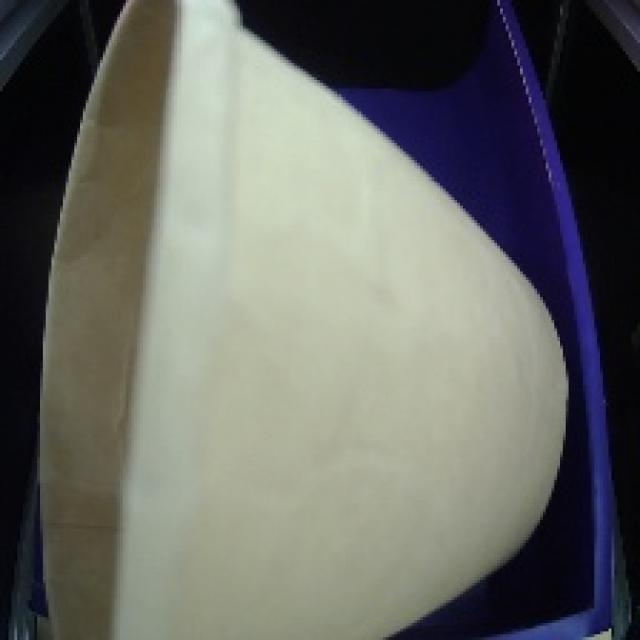cups: (22, 0, 580, 640)
